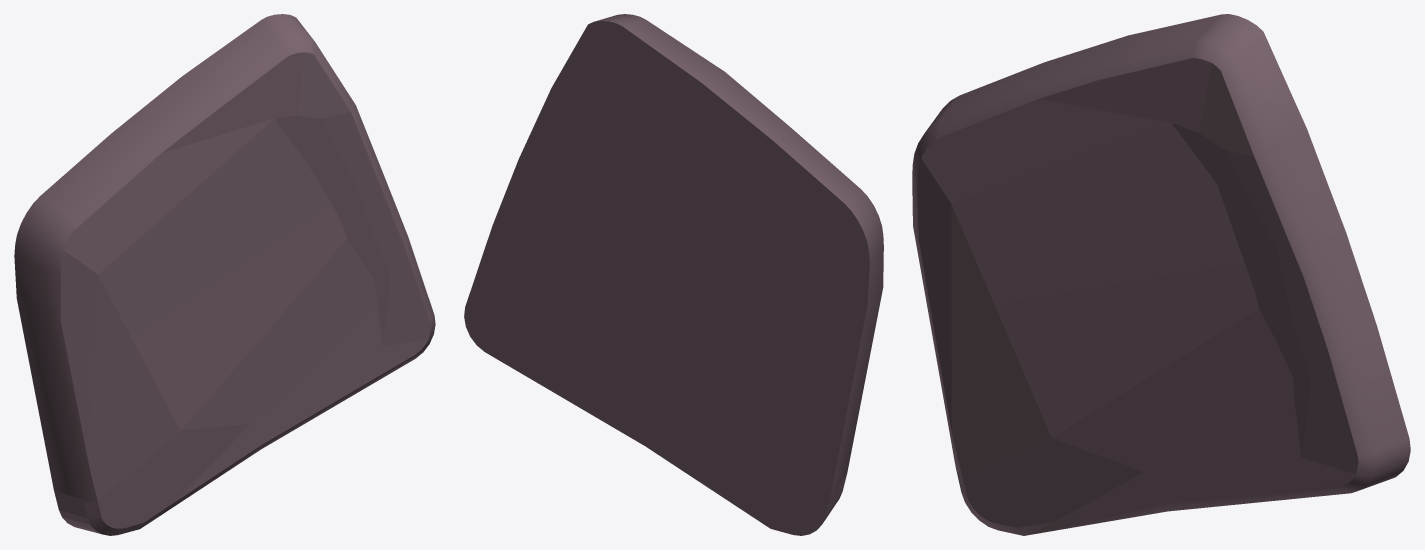
Rendered from SM_Rock_004.fbx.
3 views of the same model, side by side, from view 1: azimuth 30°, elevation 25°; view 2: azimuth 150°, elevation 25°; view 3: azimuth 330°, elevation 25° (orthographic). The views are drawn at different scales.
Visible parts, largest first — view 1: SM_Rock_004; view 2: SM_Rock_004; view 3: SM_Rock_004.
Boxes of the visible parts, box(x1,y1,x2,y2) form: SM_Rock_004: box(14, 14, 435, 535); SM_Rock_004: box(464, 14, 883, 535); SM_Rock_004: box(912, 14, 1410, 535).
Bounding box in the file's own units: 115 × 831 × 917.
